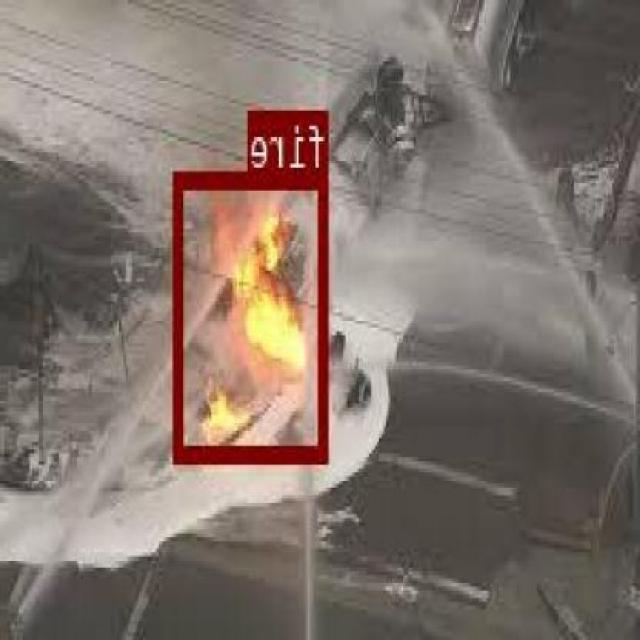Fire: (176, 172, 330, 458)
